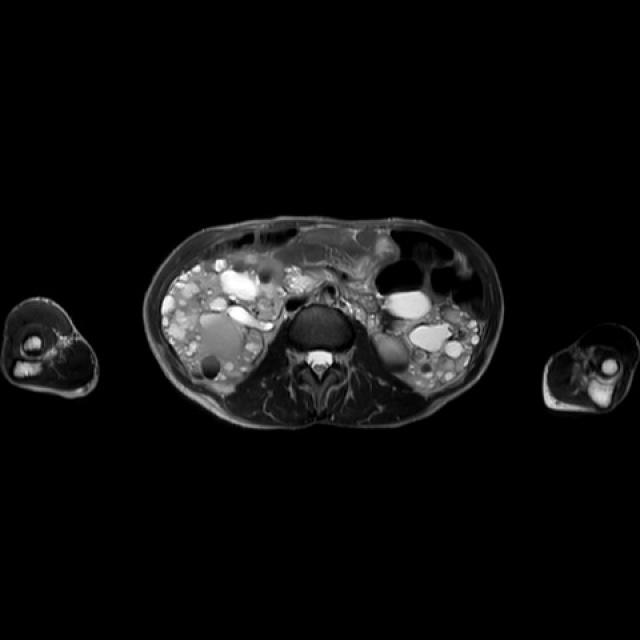sag: (162, 251, 311, 383)
sol: (369, 292, 478, 385)
